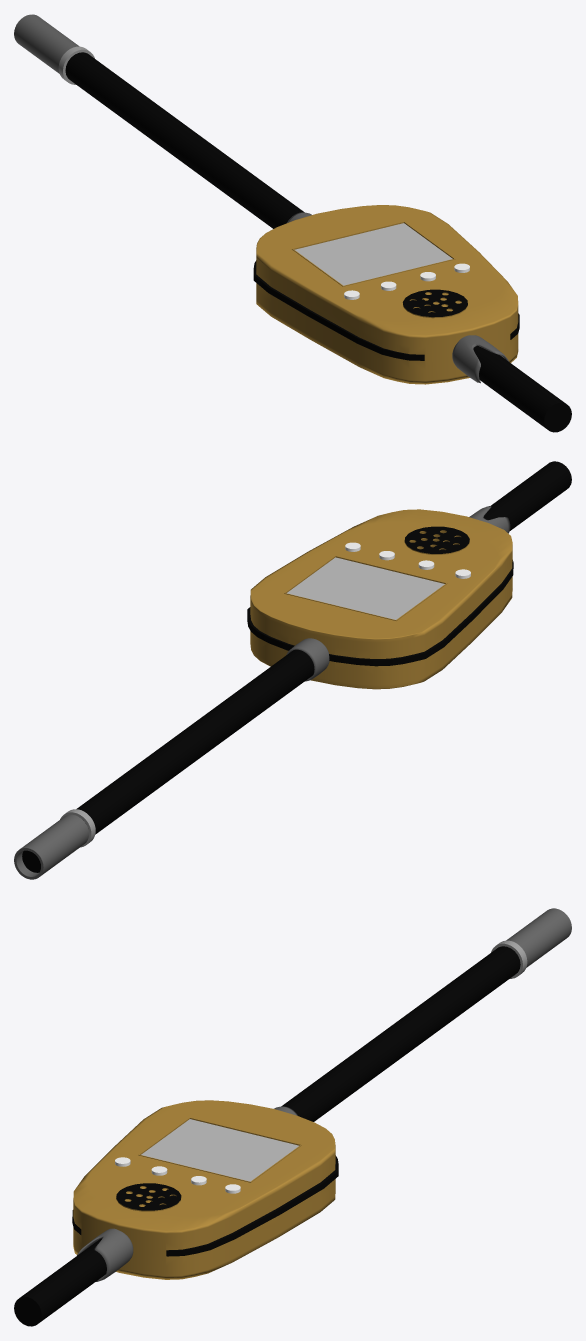
Rendered from TLD.fbx.
3 renders of one model, top to bottom at view 1: azimuth 30°, elevation 25°; view 2: azimuth 150°, elevation 25°; view 3: azimuth 330°, elevation 25°, orthographic.
Visible parts, largest first — view 1: polySurface10, polySurface5, polySurface9, polySurface6; view 2: polySurface10, polySurface5, polySurface9, polySurface7; view 3: polySurface10, polySurface5, polySurface9, polySurface6.
Part boxes in pixels (<box>): polySurface10: <box>253,205,519,384</box>; polySurface5: <box>65,52,571,432</box>; polySurface9: <box>14,14,79,73</box>; polySurface6: <box>452,335,508,383</box>; polySurface10: <box>247,509,513,689</box>; polySurface5: <box>22,461,571,872</box>; polySurface9: <box>14,814,88,879</box>; polySurface7: <box>286,638,329,681</box>; polySurface10: <box>72,1100,338,1279</box>; polySurface5: <box>14,946,520,1326</box>; polySurface9: <box>506,908,571,967</box>; polySurface6: <box>77,1228,133,1281</box>.
Bounding box in the file's own units: 408 × 115 × 2057.
